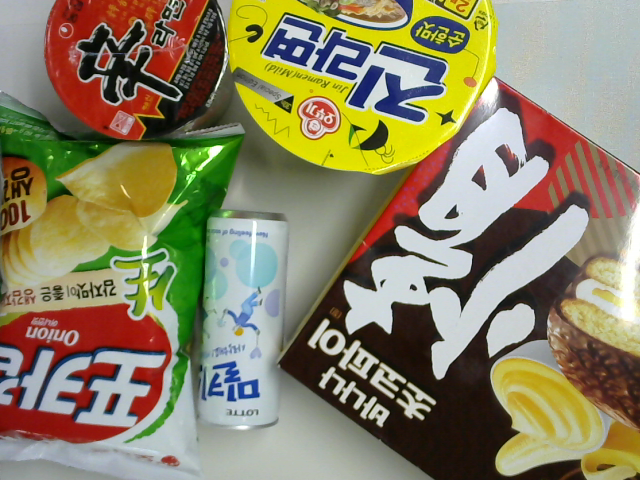Choco_Pie_Banana: (271, 77, 640, 480)
Jinlamyeon_Mild_Taste_Large_Cup: (230, 1, 496, 175)
Milkies_250ml: (197, 210, 292, 430)
Pocachip_Onion: (1, 92, 247, 480)
Sinramen_small: (43, 1, 230, 143)
